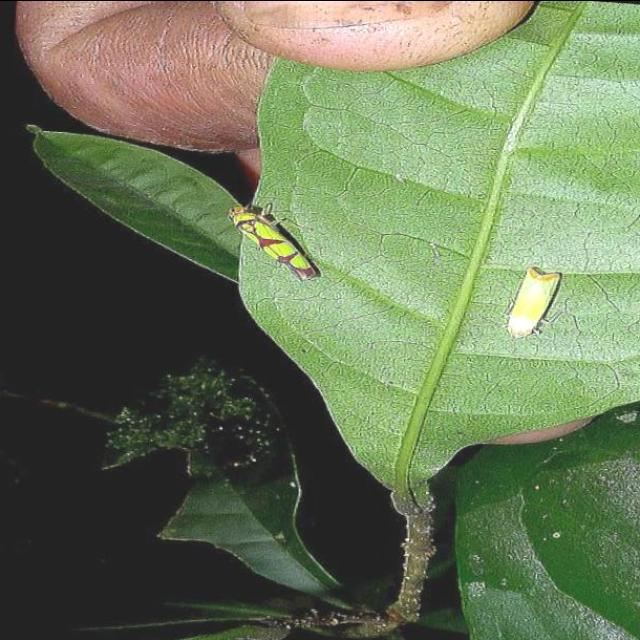green leaf hopper: (229, 206, 318, 278), (507, 269, 561, 337)
